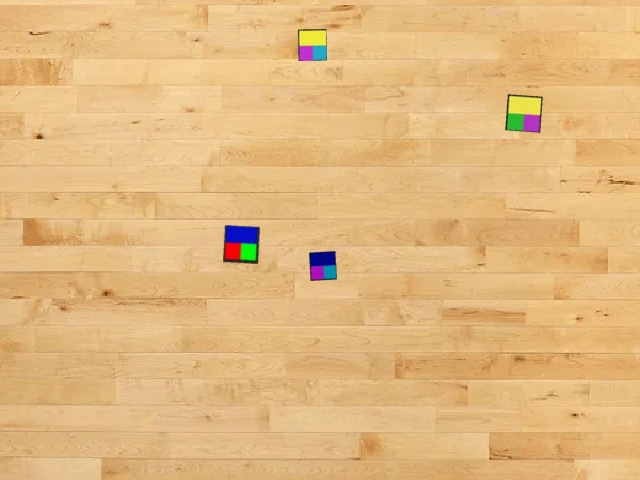pattern1: (223, 225, 260, 264)
pattern10: (309, 251, 337, 281)
pattern15: (505, 94, 543, 133)
pattern20: (298, 29, 327, 61)
